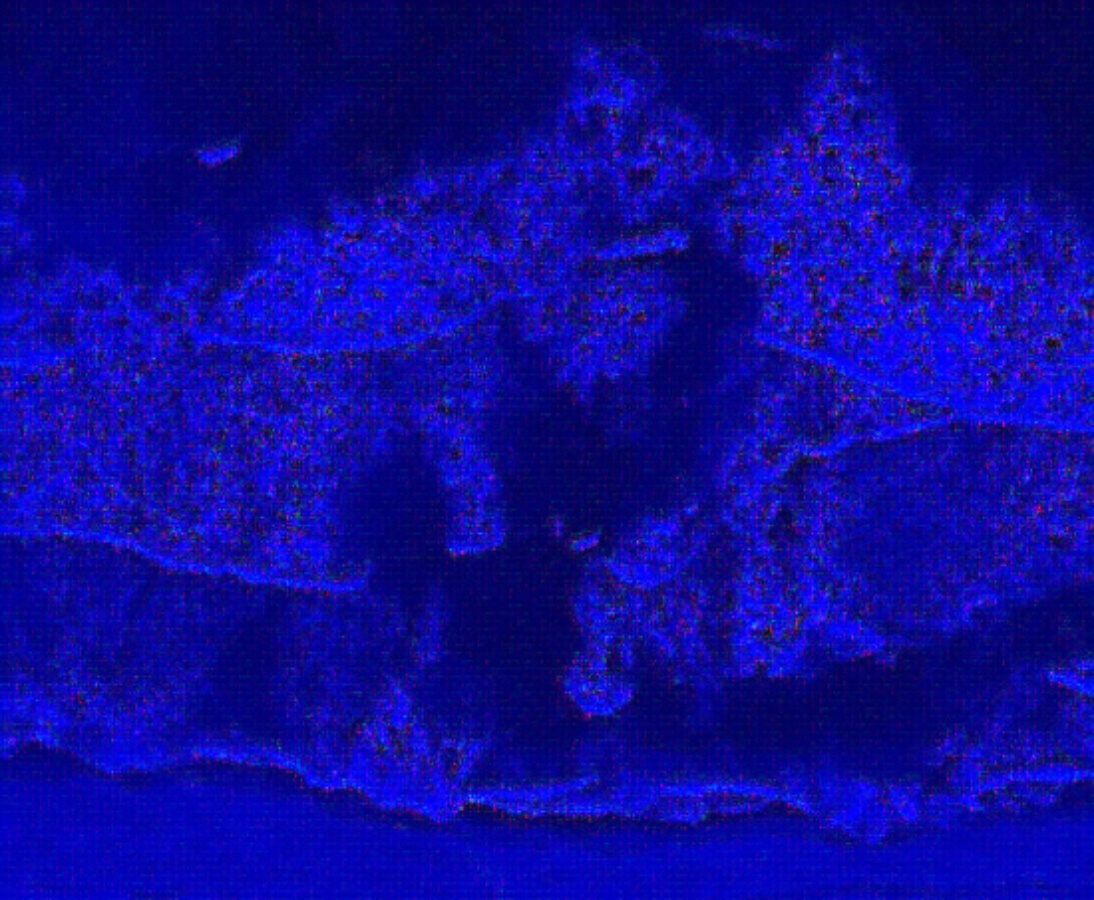rip_current: (333, 107, 744, 718)
